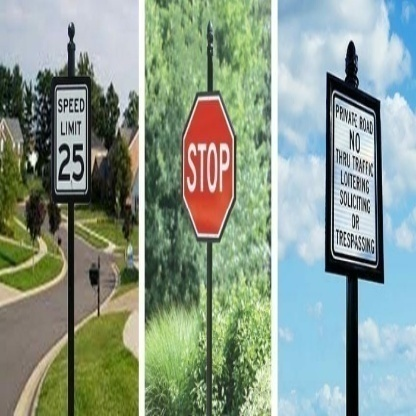stop: (182, 92, 236, 243)
